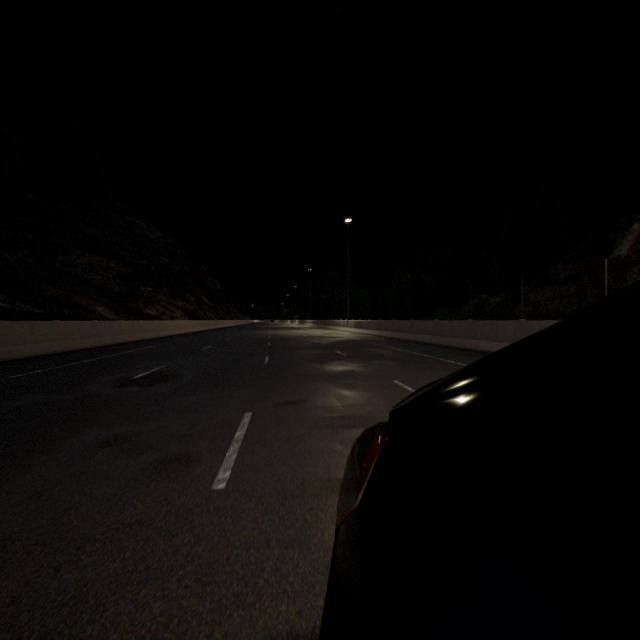Vehicle: (320, 285, 640, 637)
